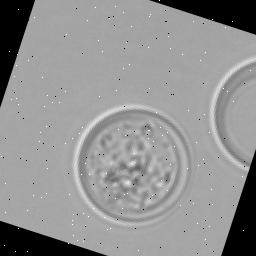picoshell: (73, 103, 191, 227), (209, 56, 256, 171)
